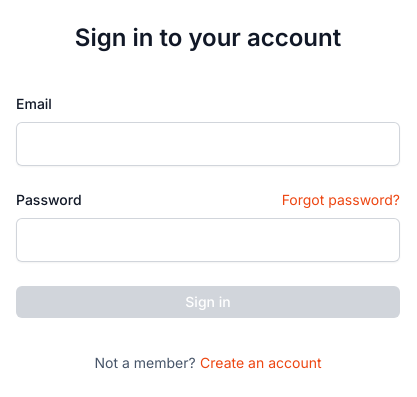
Scenario: Log in  page scenarios › Should not login when email is  blank
Click the field with test id "email": (208, 144) [16, 122, 400, 166]
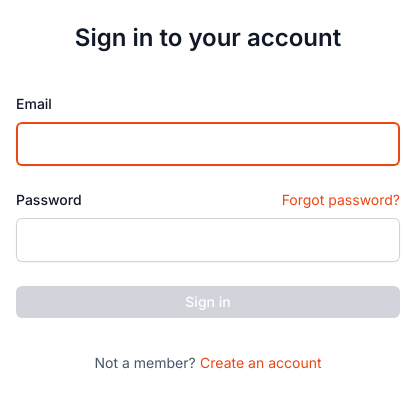
In the password field with test id "password": (208, 240) [16, 218, 400, 262], type "test@1234"
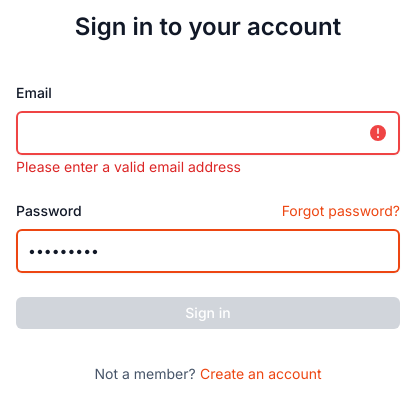
Expected: the text "Please enter a valid email address" is shown, [16, 158, 241, 175]
